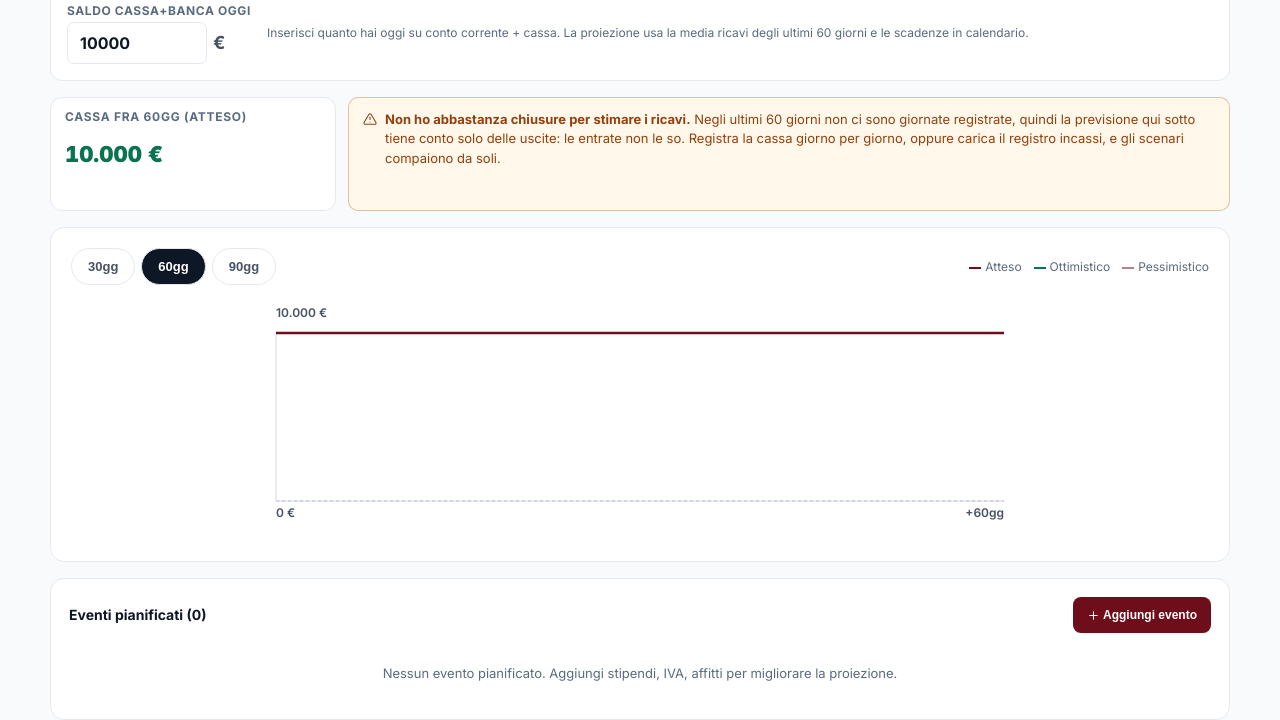
aggiungere un evento: dice quale campo manca, e salva prima di mostrare › compilato per bene, l'evento arriva al database e poi in elenco
(page scrolled)
Step 1. Click the button "Aggiungi evento" → (1142, 615), box [1073,597,1211,633]
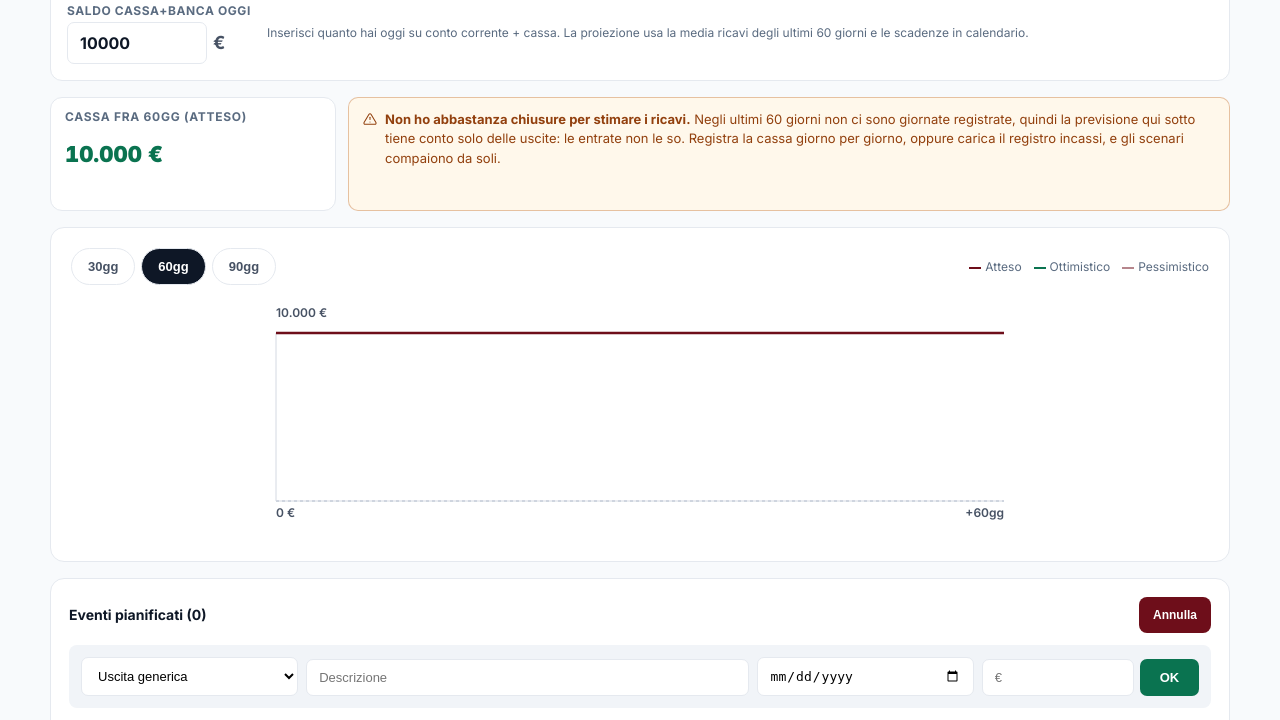
Result: the field named "Importo in euro" is shown at [982,659,1134,696]
Step 2. Type "Stipendi novembre" into the field named "Descrizione dell'evento" → (527, 678), box [306,659,749,696]
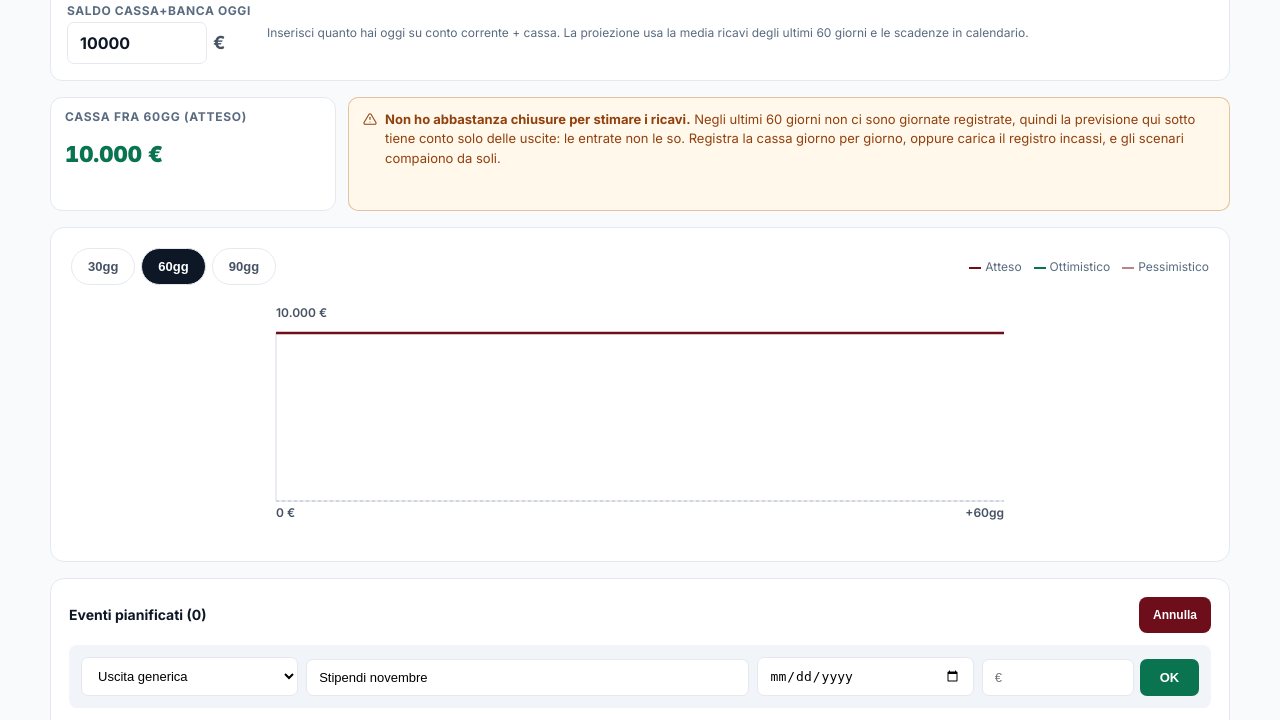
Step 3. Type "2026-12-01" into the date field named "Data in cui te lo aspetti" → (865, 676), box [757,657,974,696]
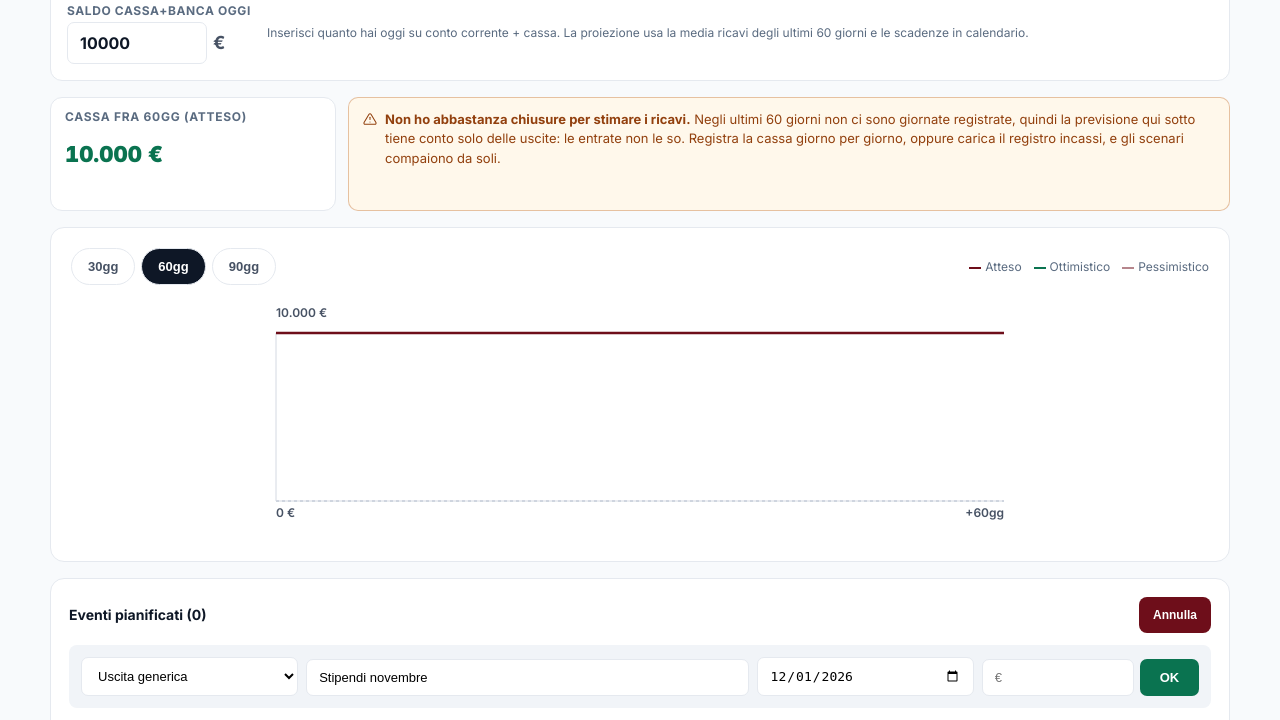
Step 4. Type "3.200" into the field named "Importo in euro" → (1058, 678), box [982,659,1134,696]
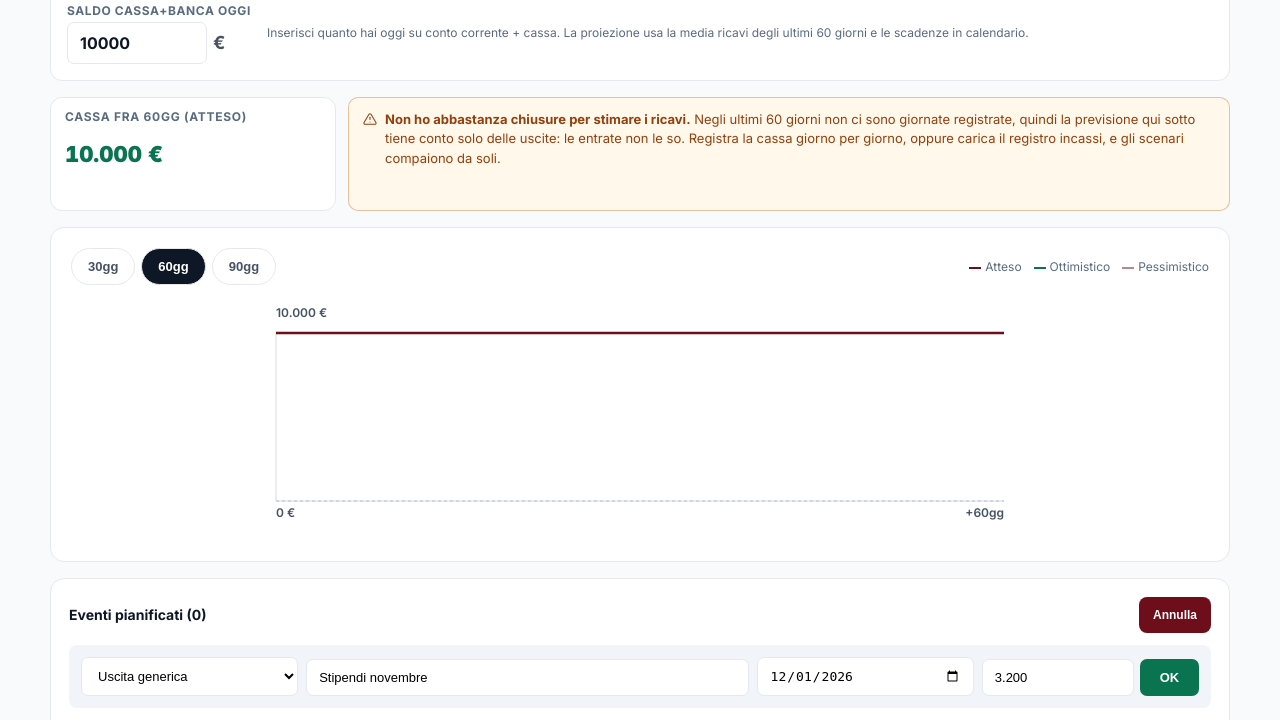
Step 5. Click the button "OK" → (1169, 678), box [1140,659,1199,696]
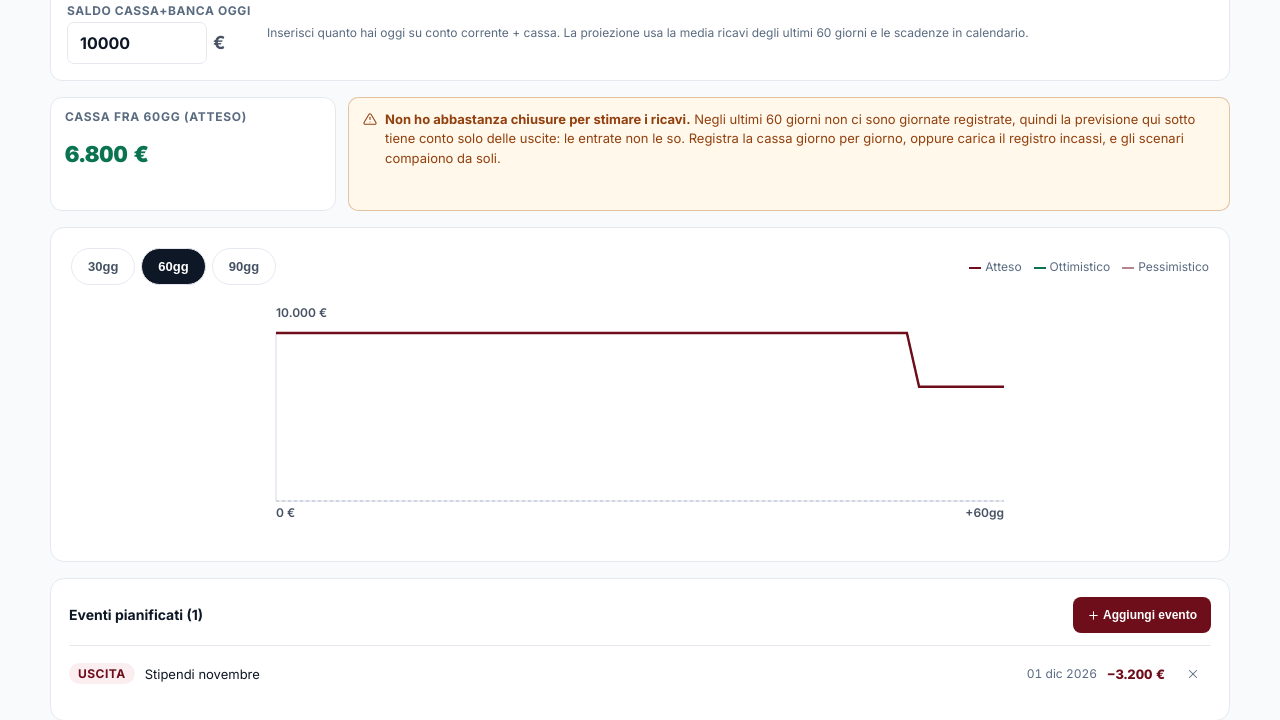
Result: the text "Stipendi novembre" is shown at [145,666,260,682]
